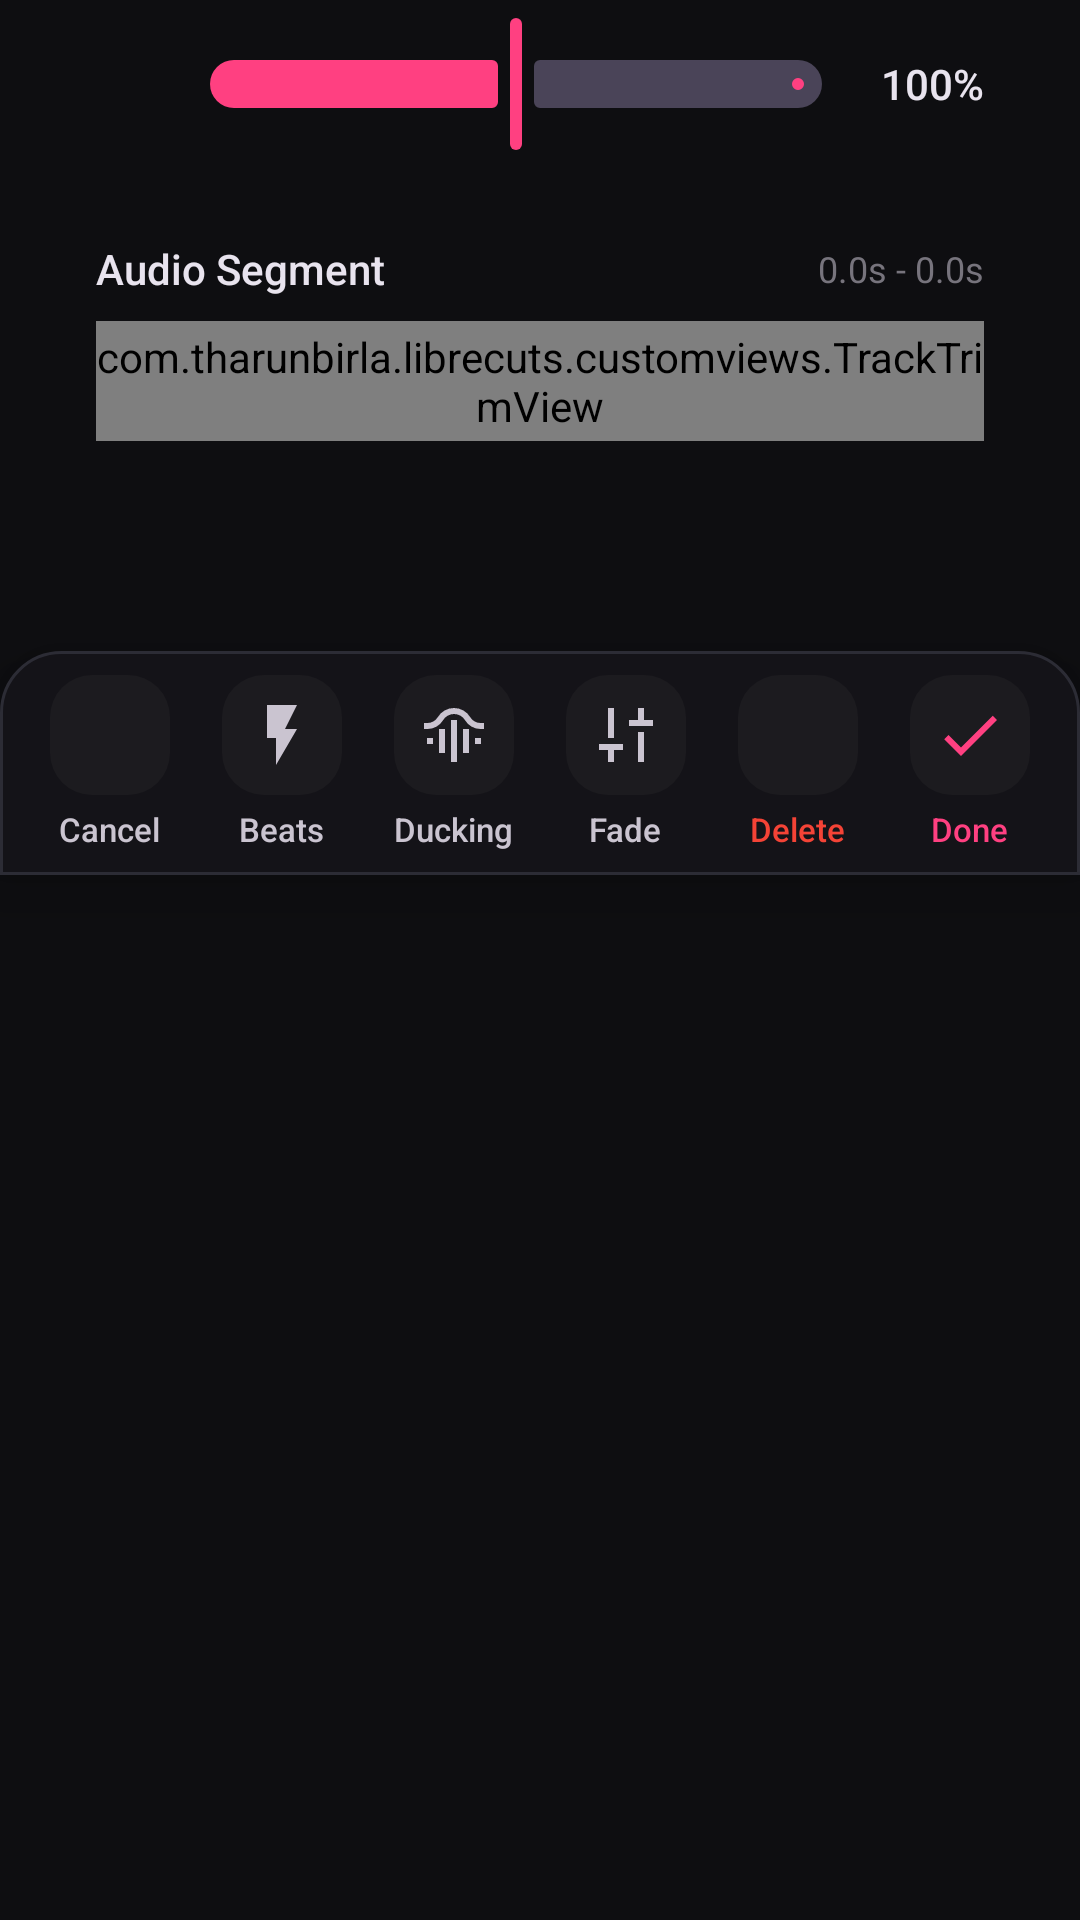

Locate icon controls on the screen. Image size 1080px x 1920px, boxes as box(x1, y1, x2, y2).
bolt: box(267, 705, 297, 765)
check: box(944, 716, 997, 756)
